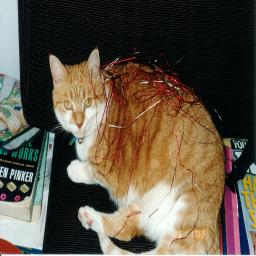catnose: (74, 117, 85, 132)
